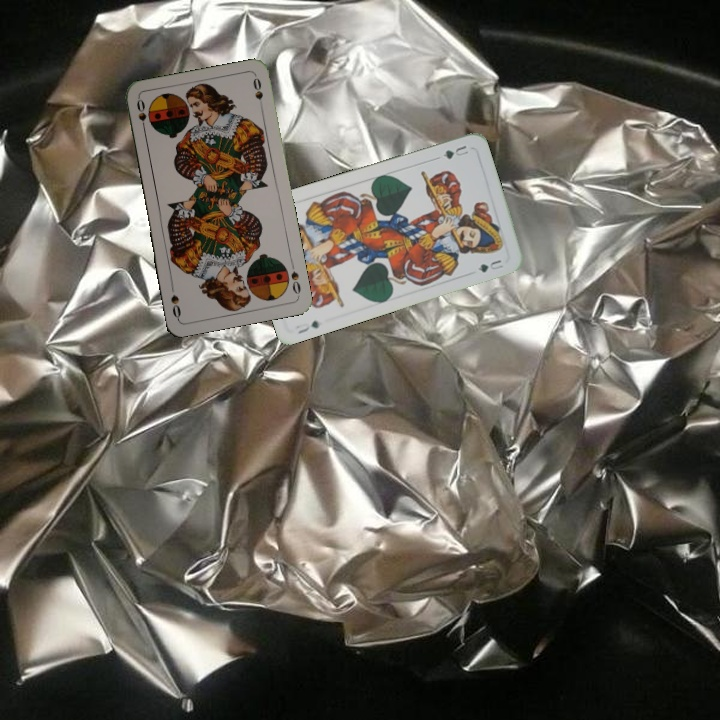GU: (439, 141, 471, 162), (292, 316, 321, 336)
SO: (133, 95, 149, 136), (287, 267, 303, 298)
